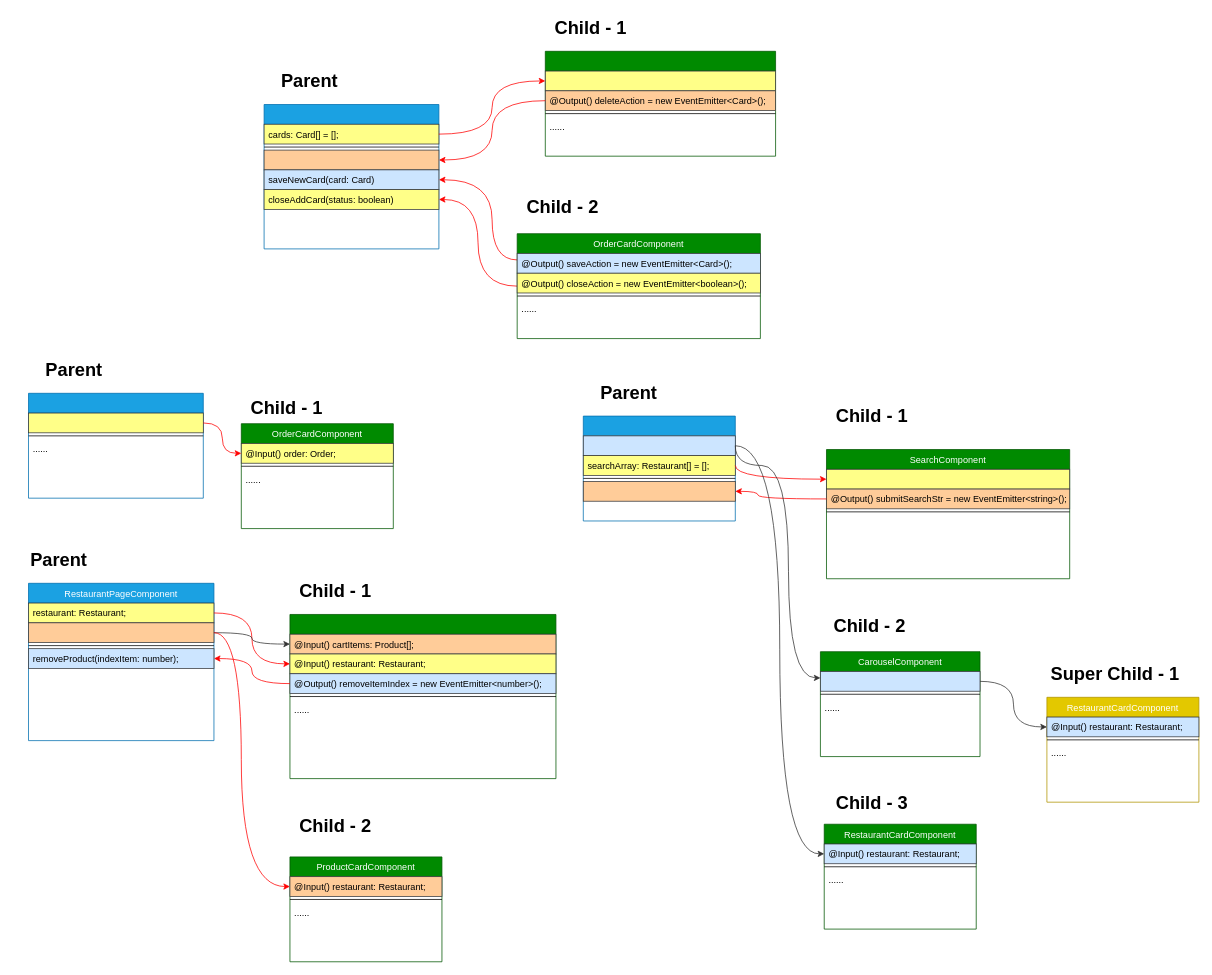
Image size: 1212x975. Some labels were removed from this diagram. The box of each missing label's shape, as (x1, y1, x2, y2) in pixels:
@Input() answer: Restaurant[];: (826, 469, 1070, 489)
@Input() card: Card;: (545, 70, 776, 91)
@Input() restaurants: Restaurant[];: (820, 671, 980, 691)
acceptSearchStr(str: string): (583, 481, 735, 501)
CartComponent: (289, 614, 556, 779)
cartItems: Product[] = [];: (28, 622, 214, 643)
CreditCardComponent: (545, 51, 776, 156)
deleteCard(card: Card): (263, 149, 439, 170)
MainComponent: (583, 415, 735, 521)
OrderHistoryComponent: (28, 393, 203, 498)
orders: Order[] = [];: (28, 412, 203, 433)
PaymentsComponent: (263, 104, 439, 249)
restaurants: Restaurant[] = [];: (583, 435, 735, 456)
